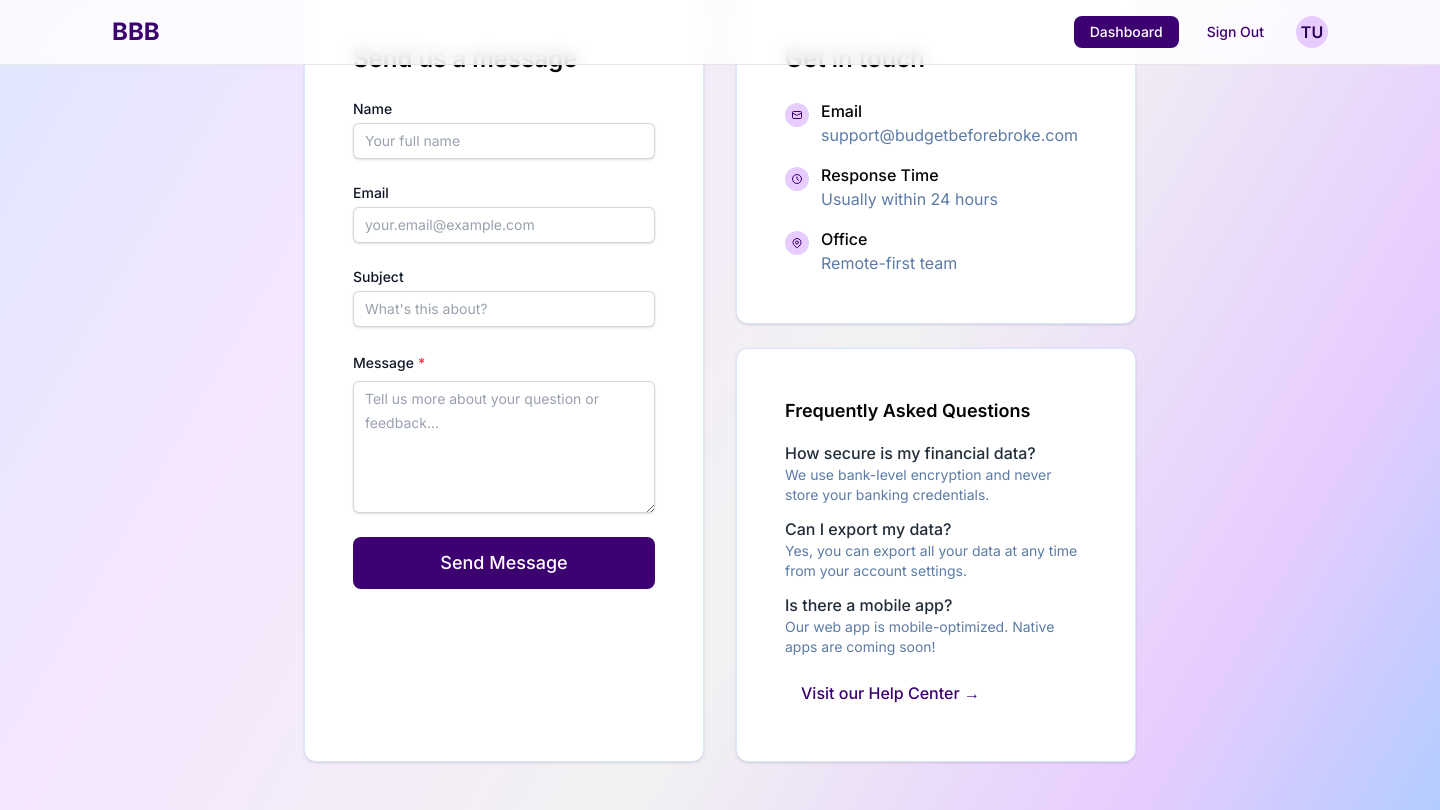
ContactPage › should show validation errors for empty required fields
(page scrolled)
Click the button "Send Message": (504, 563) [353,537,655,589]
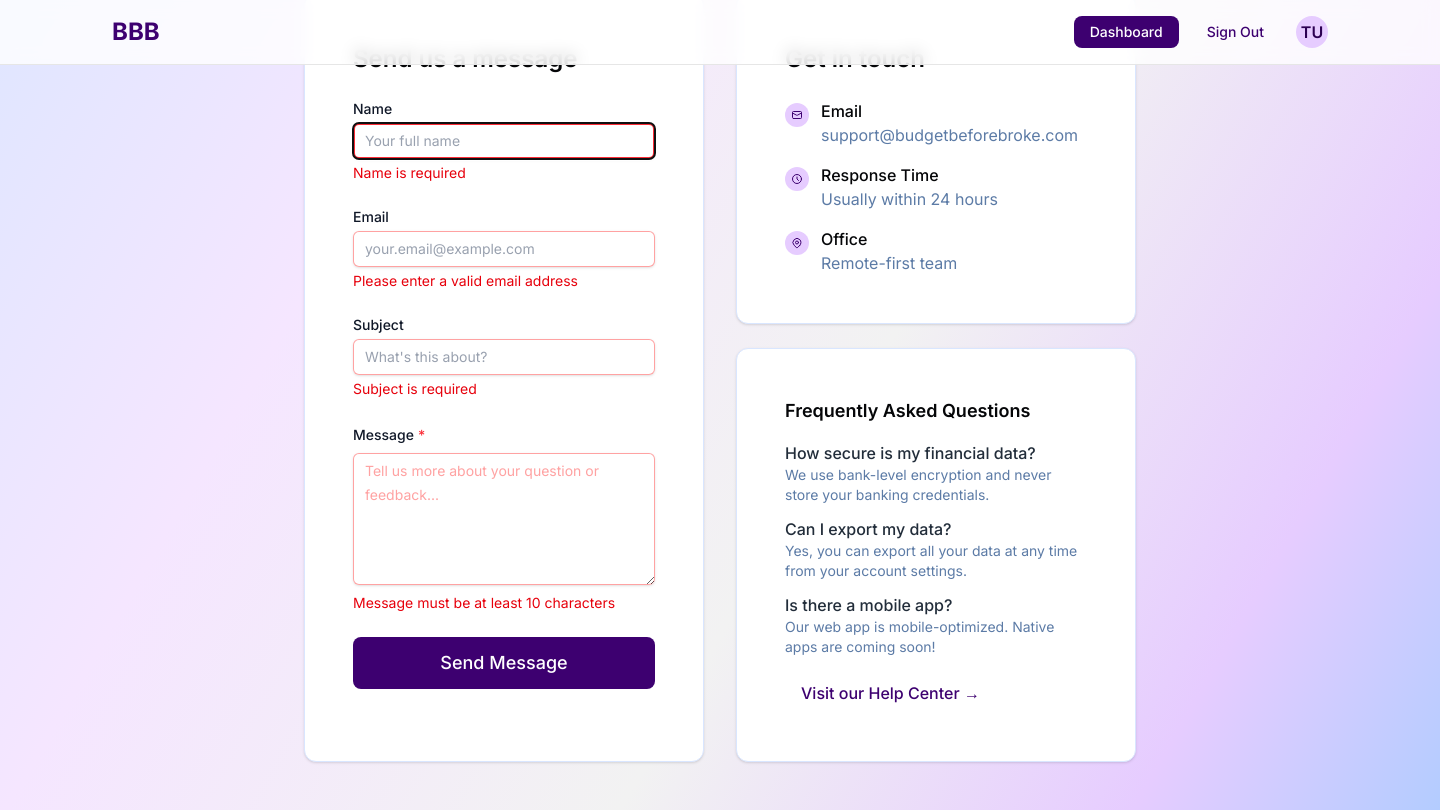
Expected: the text "Name is required" is shown, [353,164,466,181]
Expected: the text "Please enter a valid email address" is shown, [353,272,578,289]
Expected: the text "Subject is required" is shown, [353,380,477,397]
